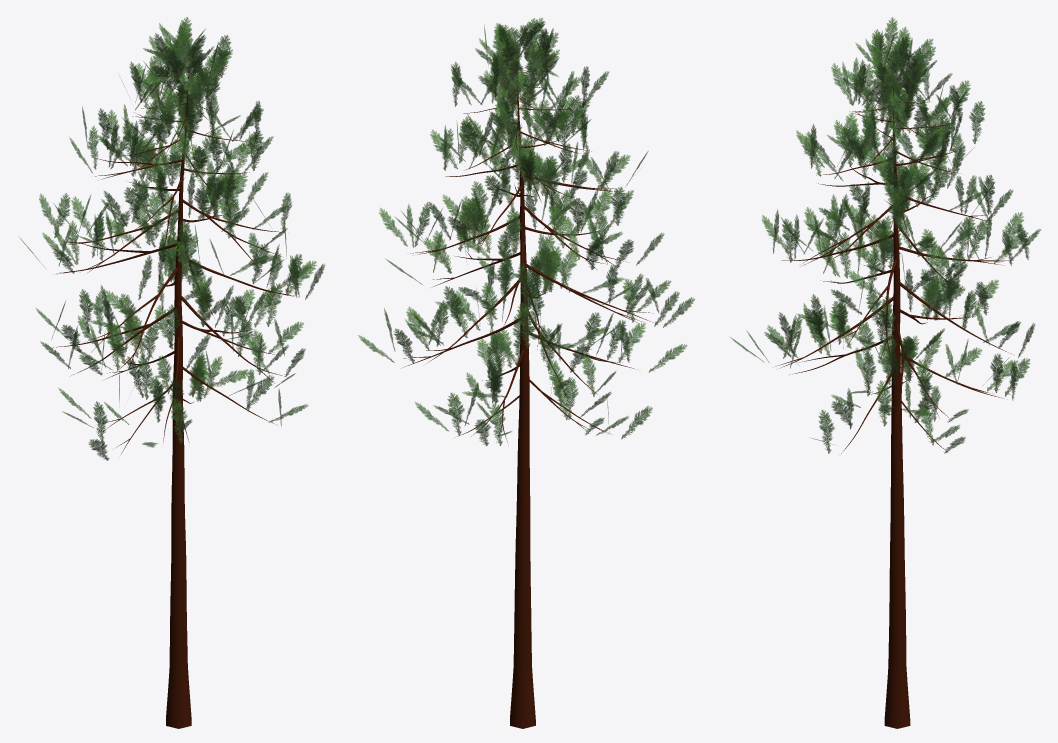
Rendered from FirTree3.gltf.
The picture shows the model from 3 angles, left to right: view 1: azimuth 30°, elevation 25°; view 2: azimuth 150°, elevation 25°; view 3: azimuth 270°, elevation 25°; orthographic projection.
Parts seen in each view (by area): view 1: LeafSet019_2K_Color_A.322, tree; view 2: LeafSet019_2K_Color_A.322, tree; view 3: LeafSet019_2K_Color_A.322, tree.
Part boxes in pixels (left/top/right/bottom): LeafSet019_2K_Color_A.322: left=19, top=17, right=324, bottom=460; tree: left=53, top=72, right=298, bottom=728; LeafSet019_2K_Color_A.322: left=358, top=17, right=694, bottom=446; tree: left=403, top=69, right=653, bottom=728; LeafSet019_2K_Color_A.322: left=730, top=17, right=1040, bottom=453; tree: left=775, top=69, right=1013, bottom=728.
Bounding box in the file's own units: 3.99 × 9.49 × 3.92.
Materials: 2 (1 with a texture image).
